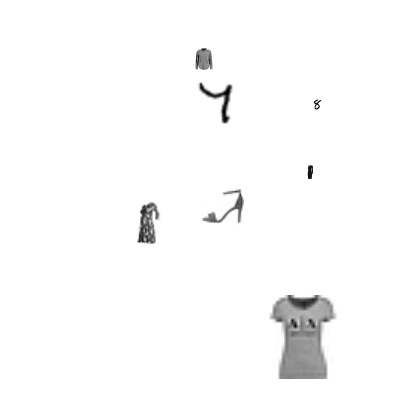7: (192, 71, 248, 127)
8: (310, 97, 324, 111)
Dress: (127, 202, 169, 244), (303, 165, 317, 179)
Sandal: (202, 185, 244, 227)
Shirt: (193, 48, 215, 70)
T-shirt/top: (261, 295, 345, 379)
